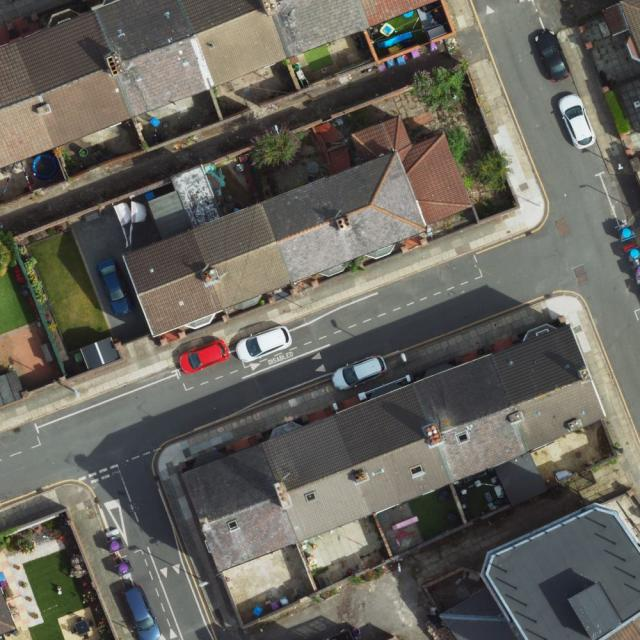roof: (182, 324, 609, 575), (122, 113, 475, 337), (1, 0, 438, 167), (440, 506, 640, 640), (600, 0, 640, 58)
skylight: (408, 462, 427, 481), (454, 429, 473, 447), (302, 489, 319, 504), (226, 517, 241, 533)
